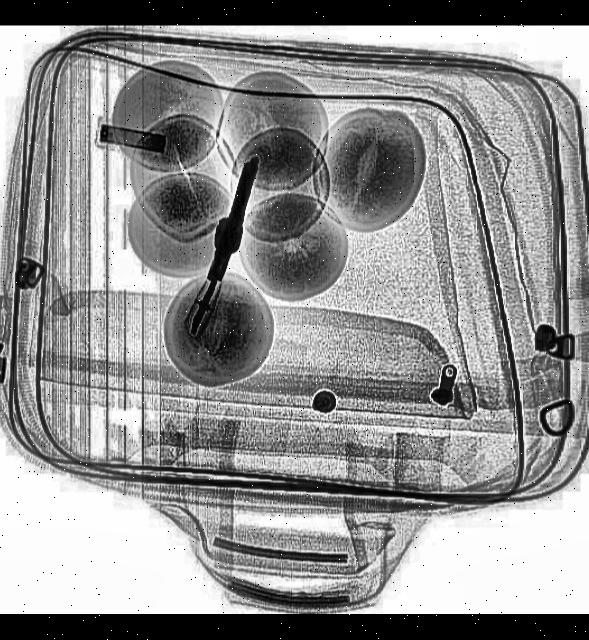Gun: (182, 154, 267, 339)
